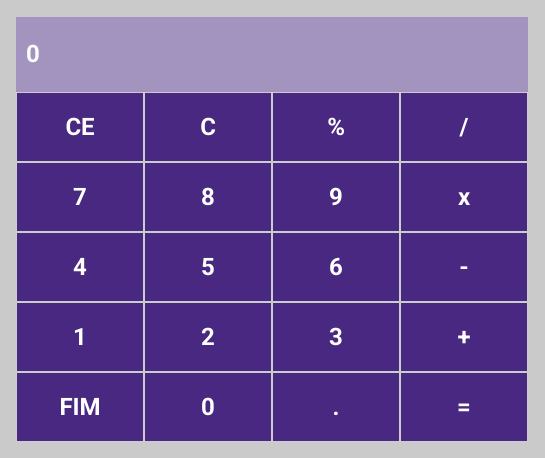
Calculator Operations › Manipulando operações de Adição
Click the button "5": click(208, 266) [144,232,272,302]
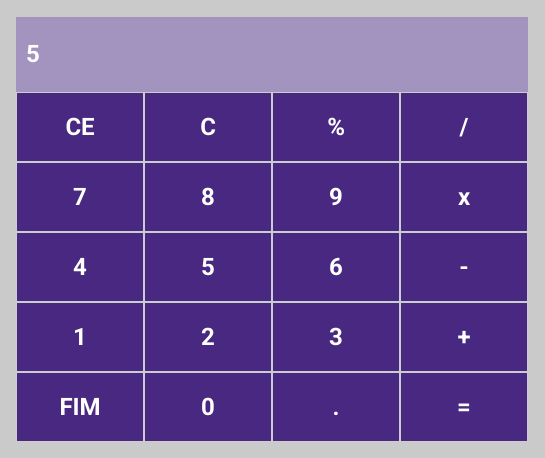
Click the button "+": click(464, 336) [400,302,528,372]
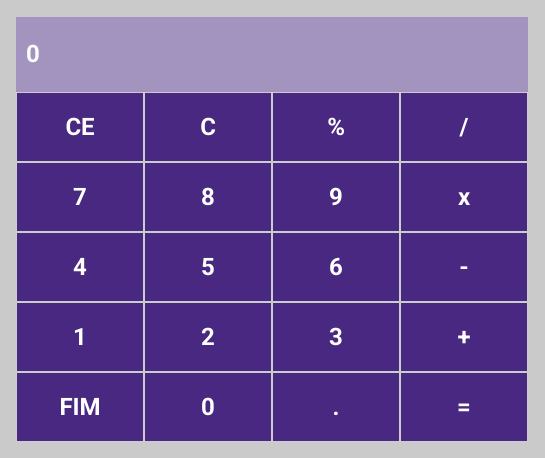
Click the button "2": click(208, 336) [144,302,272,372]
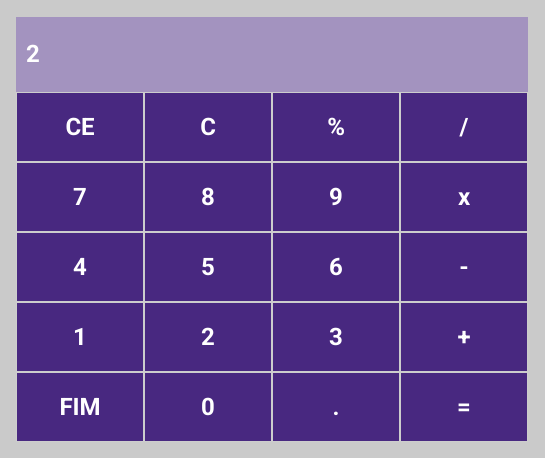
Click the button "=": click(464, 406) [400,372,528,442]
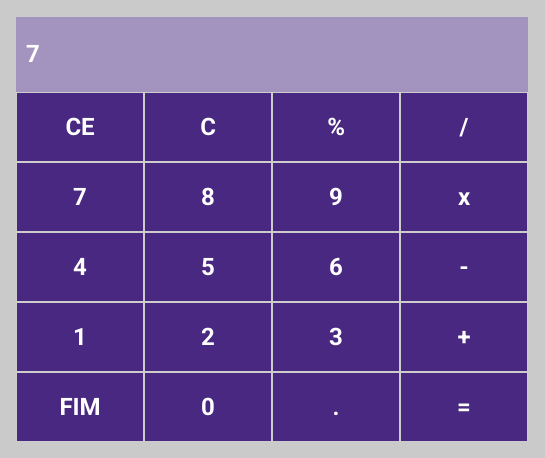
Expected: the field showing "7" is shown, [16,16,528,92]
